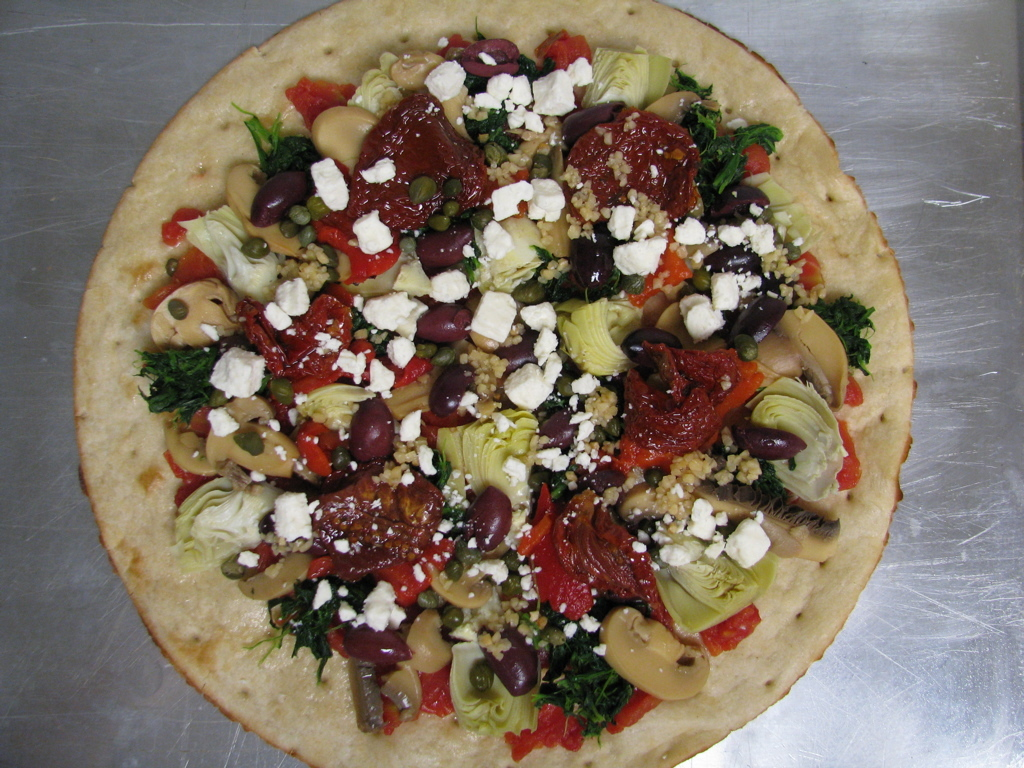taco: (74, 0, 918, 767)
